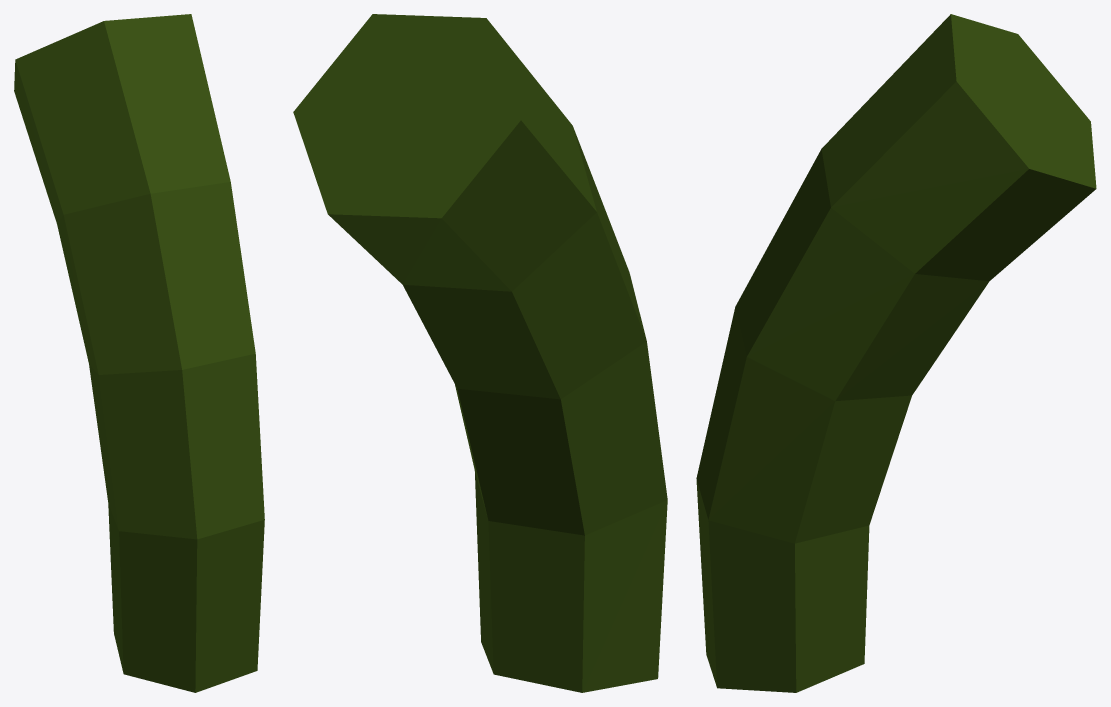
File: pumpkin001_grass1_0_lev1.glb
3 views of the same model, side by side, from view 1: azimuth 30°, elevation 25°; view 2: azimuth 150°, elevation 25°; view 3: azimuth 270°, elevation 25° (orthographic). The views are drawn at different scales.
Visible parts, largest first — view 1: pumpkin001_grass1_0_lev1; view 2: pumpkin001_grass1_0_lev1; view 3: pumpkin001_grass1_0_lev1.
Part boxes in pixels (bbox=[...]): pumpkin001_grass1_0_lev1: bbox=[14, 14, 264, 692]; pumpkin001_grass1_0_lev1: bbox=[293, 14, 667, 692]; pumpkin001_grass1_0_lev1: bbox=[696, 14, 1096, 692].
Size of the model in its own units: 0.0379 by 0.1121 by 0.0625.
